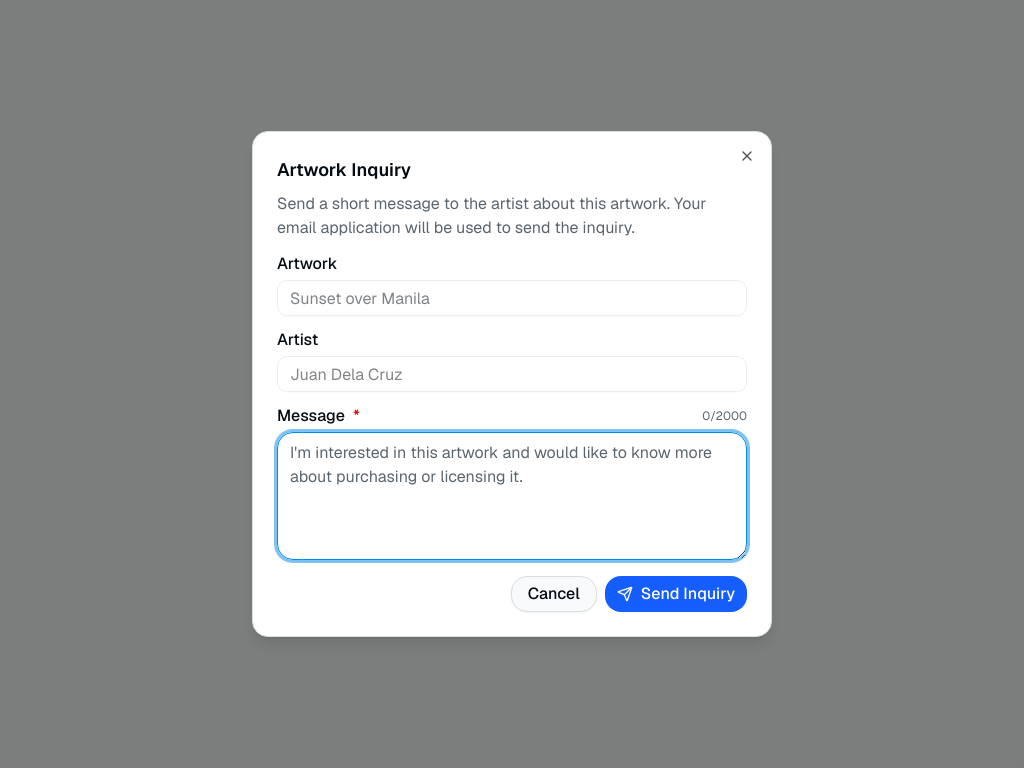
ContactArtistModal › shows a server error message when preparation fails
Replace the text in the text box labelled "Message *" with "Hello!" at [512, 496], box 277,432 -> 747,560
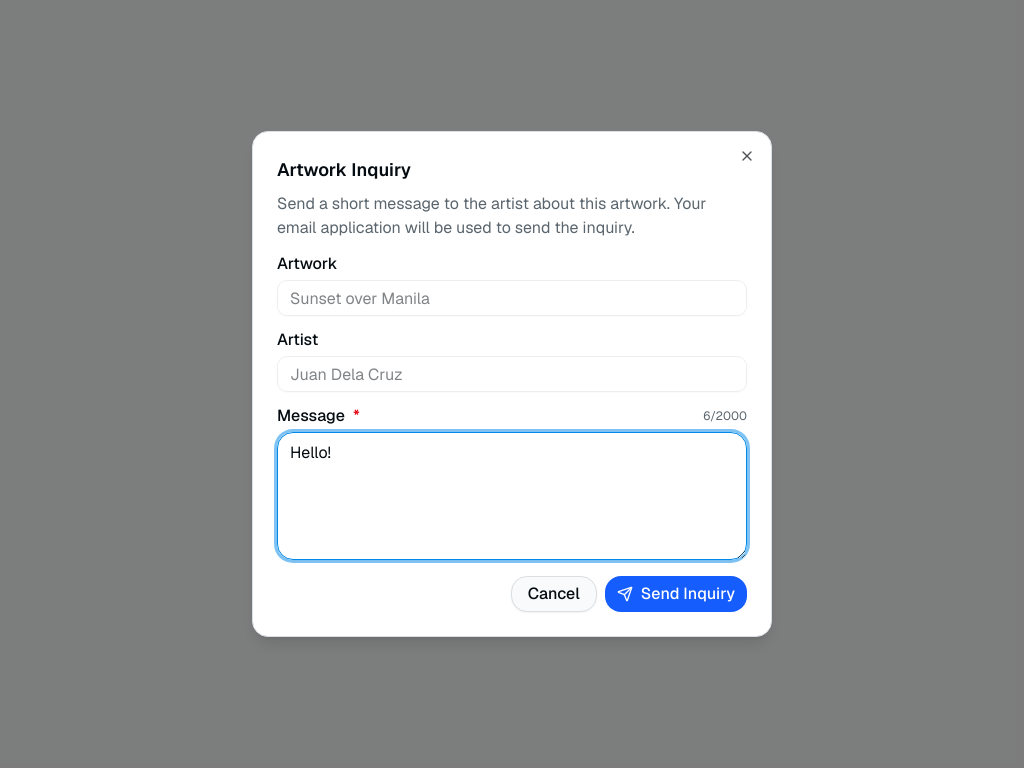
Click the button "Send Inquiry" at [676, 594], box 605,576 -> 747,612
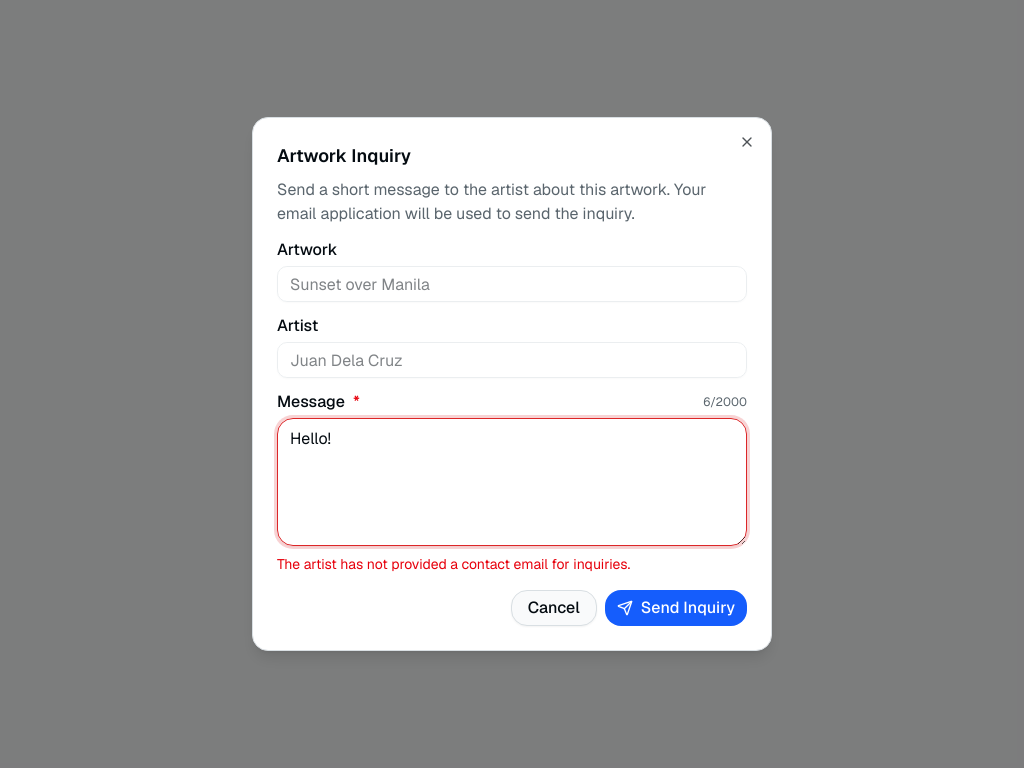
Now the text "The artist has not provided a contact email for inquiries." is shown, box 277,555 -> 630,573
